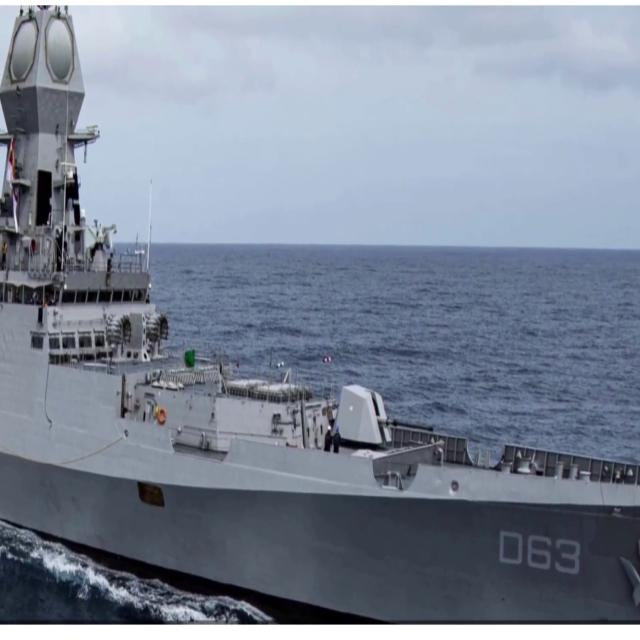OCR: (494, 522, 584, 584)
